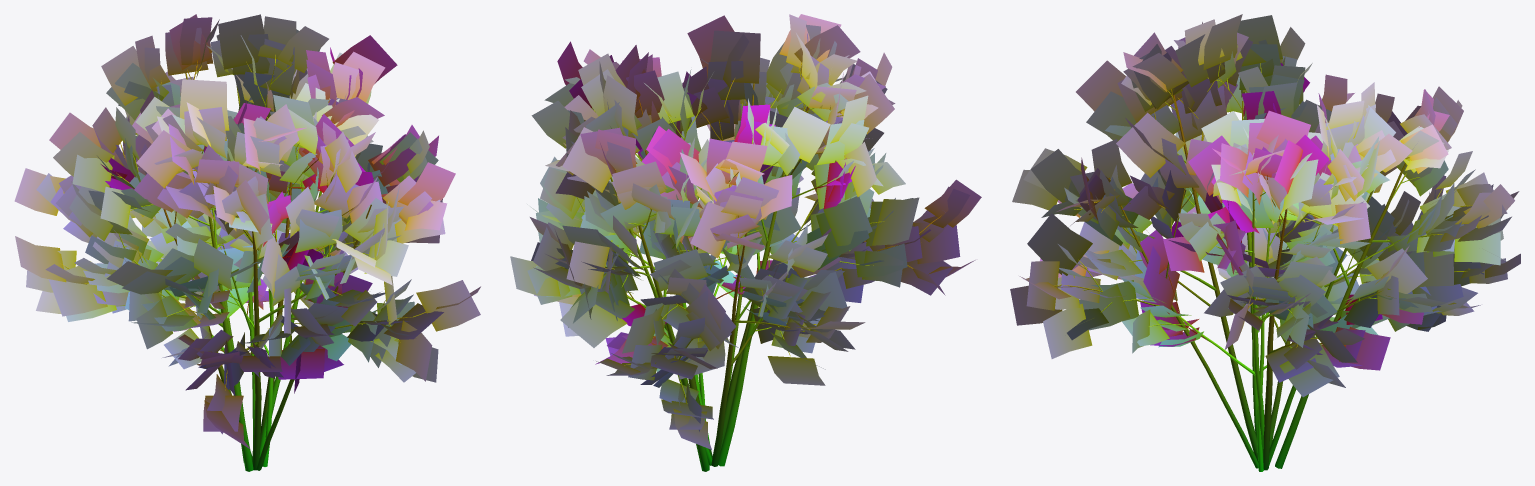
The model's file is corylus_avellana.glb.
The picture shows the model from 3 angles, left to right: view 1: azimuth 30°, elevation 25°; view 2: azimuth 150°, elevation 25°; view 3: azimuth 270°, elevation 25°; orthographic projection. The views are drawn at different scales.
Visible parts, largest first — view 1: corylus_avellana_lod0; view 2: corylus_avellana_lod0; view 3: corylus_avellana_lod0.
Boxes of the visible parts, x1=… form: corylus_avellana_lod0: x1=14, y1=14, x2=480, y2=471; corylus_avellana_lod0: x1=510, y1=14, x2=981, y2=471; corylus_avellana_lod0: x1=1010, y1=14, x2=1520, y2=471.
Size of what is drawn, in the model's own units: 4.87 by 5.34 by 5.96.
